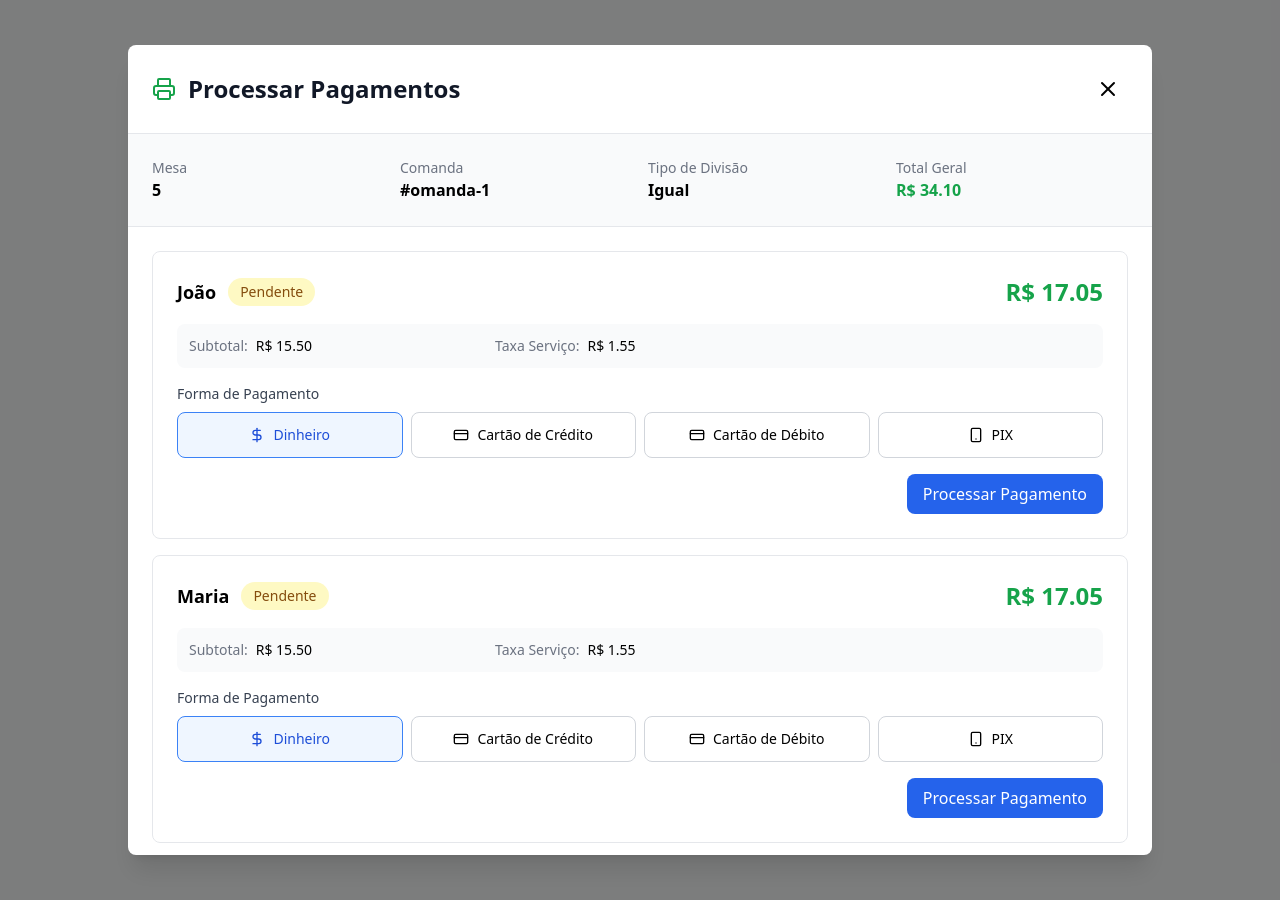
Test case: ComprovantesMultiplos › deve imprimir comprovante após pagamento processado
# Processar pagamento primeiro
Click the 1st button "Processar Pagamento". click: (1005, 494)
box: [907, 474, 1103, 514]
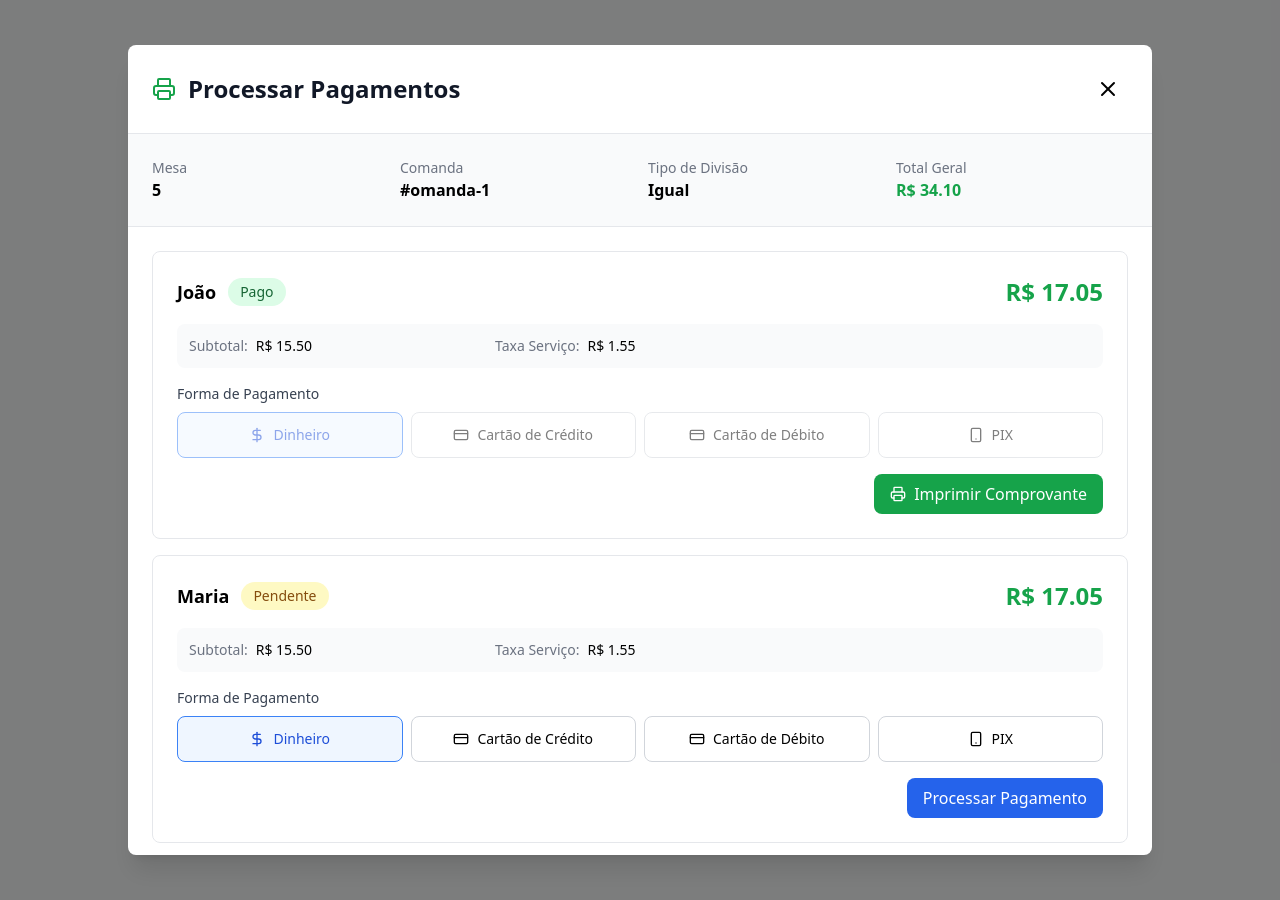
Result: the text "Pago" is shown at [228, 278, 286, 306]
# Clicar em imprimir comprovante
Click the button "Imprimir Comprovante". click: (989, 494)
box: [874, 474, 1103, 514]
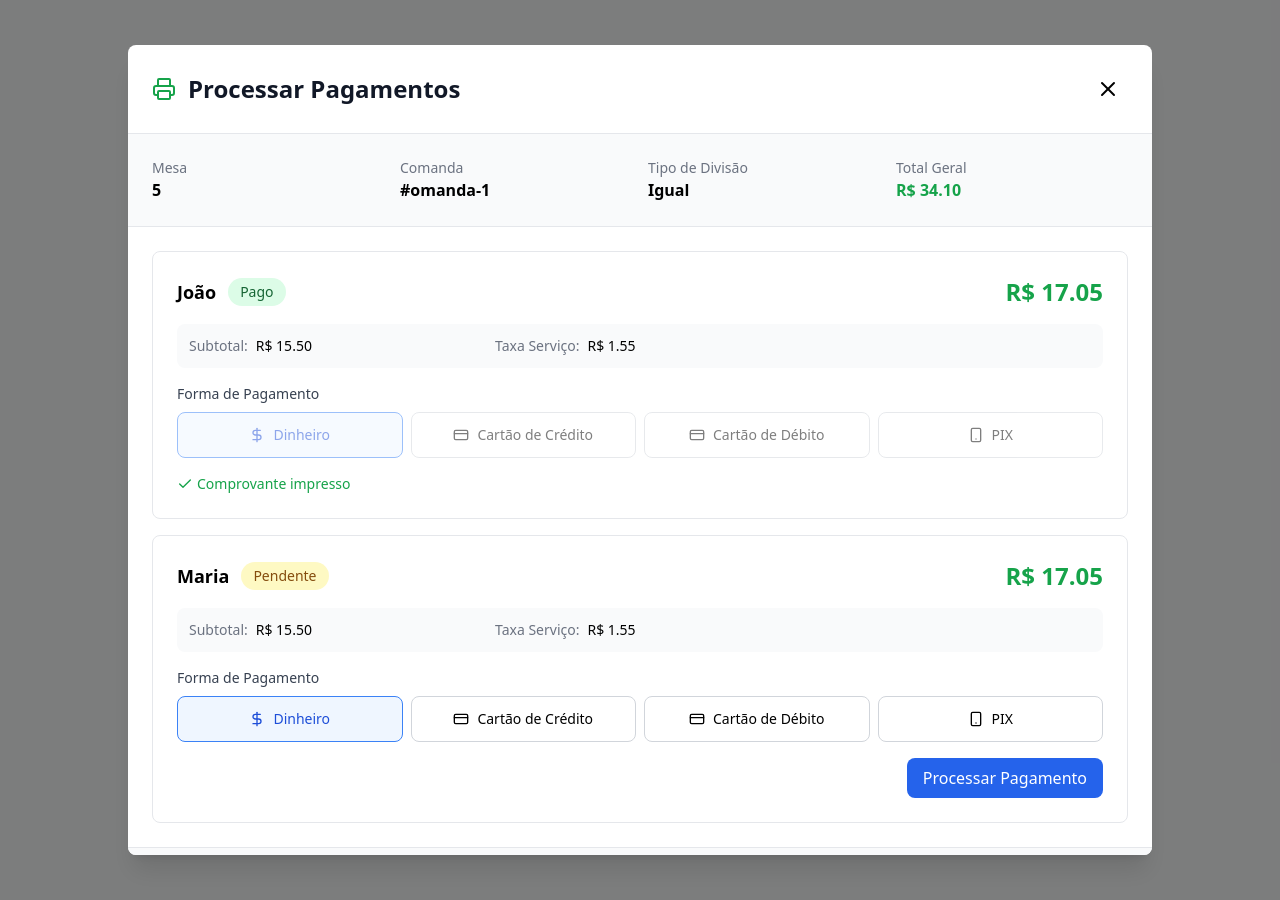
Result: the text "Comprovante impresso" is shown at [197, 474, 350, 494]
